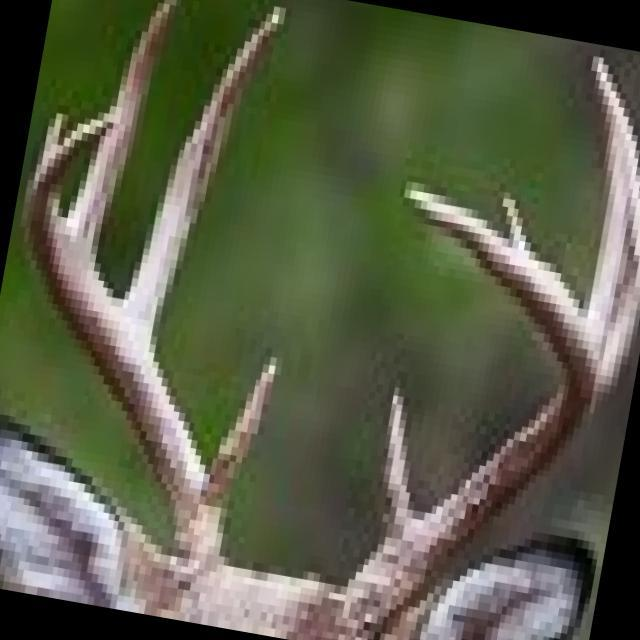L-F: (326, 179, 597, 640)
L-G1: (377, 380, 415, 546)
L-G3: (582, 119, 632, 357)
L-G4: (494, 186, 539, 259)
R-F: (22, 113, 229, 593)
R-G1: (203, 349, 285, 515)
R-G2: (122, 0, 291, 361)
